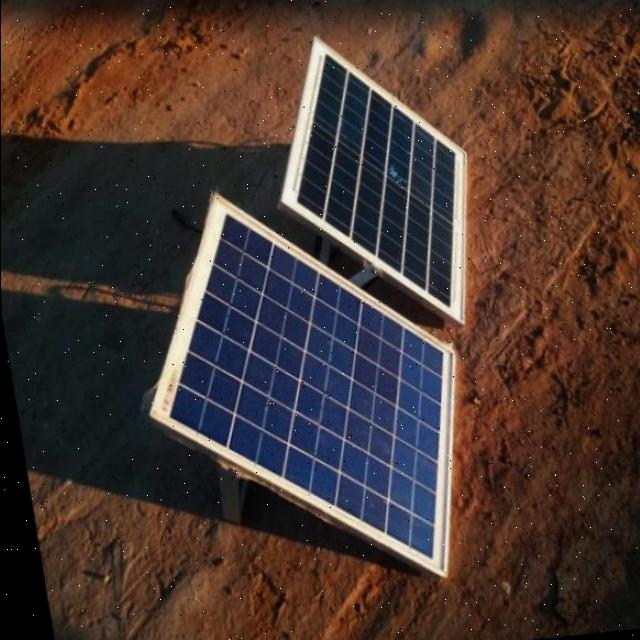Normal Solar Panel: (114, 166, 488, 617), (256, 21, 492, 350)
